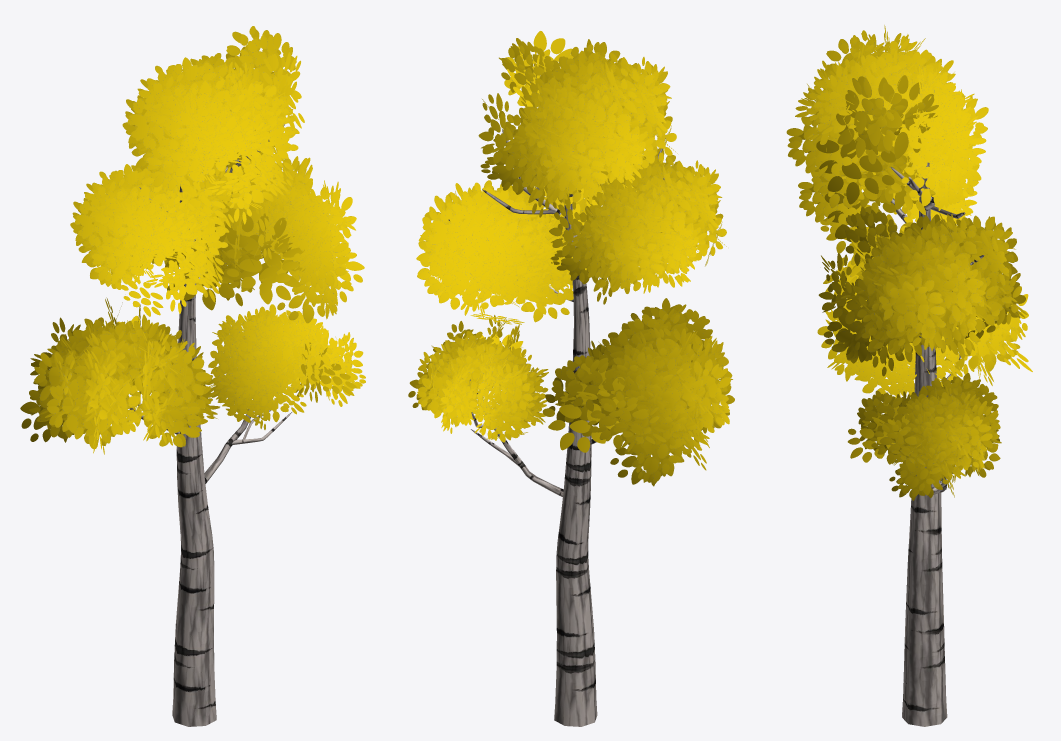
Rendered from BirchTree_1.glb.
3 views of the same model, side by side, from view 1: azimuth 30°, elevation 25°; view 2: azimuth 150°, elevation 25°; view 3: azimuth 270°, elevation 25° (orthographic). The views are drawn at different scales.
Parts seen in each view (by area): view 1: BirchTree_1; view 2: BirchTree_1; view 3: BirchTree_1.
Part boxes in pixels (bbox=[...]): BirchTree_1: bbox=[20, 26, 365, 726]; BirchTree_1: bbox=[408, 31, 734, 726]; BirchTree_1: bbox=[786, 25, 1032, 726].
Size of the model in its own units: 2.71 by 5.45 by 1.94.
2 materials, 2 textured.
